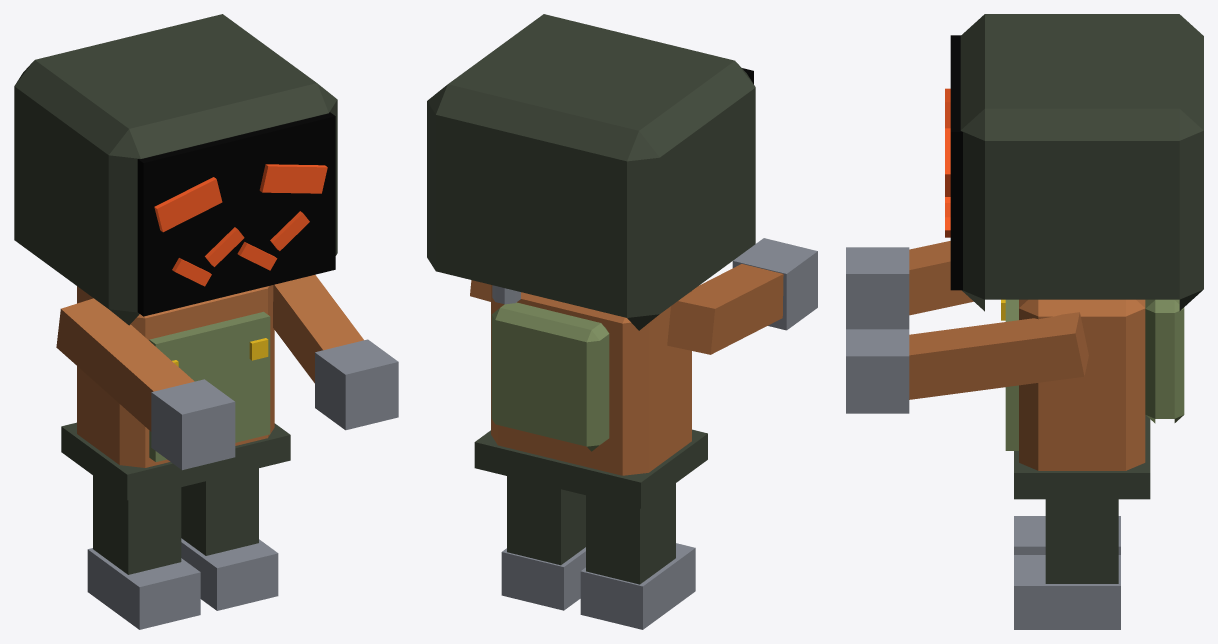
File: grunt_r7.glb
The picture shows the model from 3 angles, left to right: view 1: azimuth 30°, elevation 25°; view 2: azimuth 150°, elevation 25°; view 3: azimuth 270°, elevation 25°; orthographic projection. The views are drawn at different scales.
Visible parts, largest first — view 1: grunt_r7_mesh; view 2: grunt_r7_mesh; view 3: grunt_r7_mesh.
Part boxes in pixels (left/top/right/bottom): grunt_r7_mesh: left=14, top=14, right=398, bottom=629; grunt_r7_mesh: left=427, top=14, right=817, bottom=629; grunt_r7_mesh: left=846, top=14, right=1203, bottom=629.
Bounding box in the file's own units: 0.7185 × 1.5 × 0.9112.
Materials: 1 (1 with a texture image).
